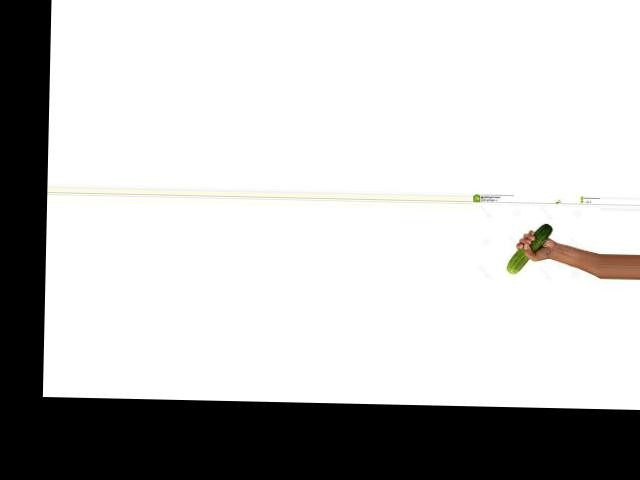cucumber: (507, 222, 554, 274)
